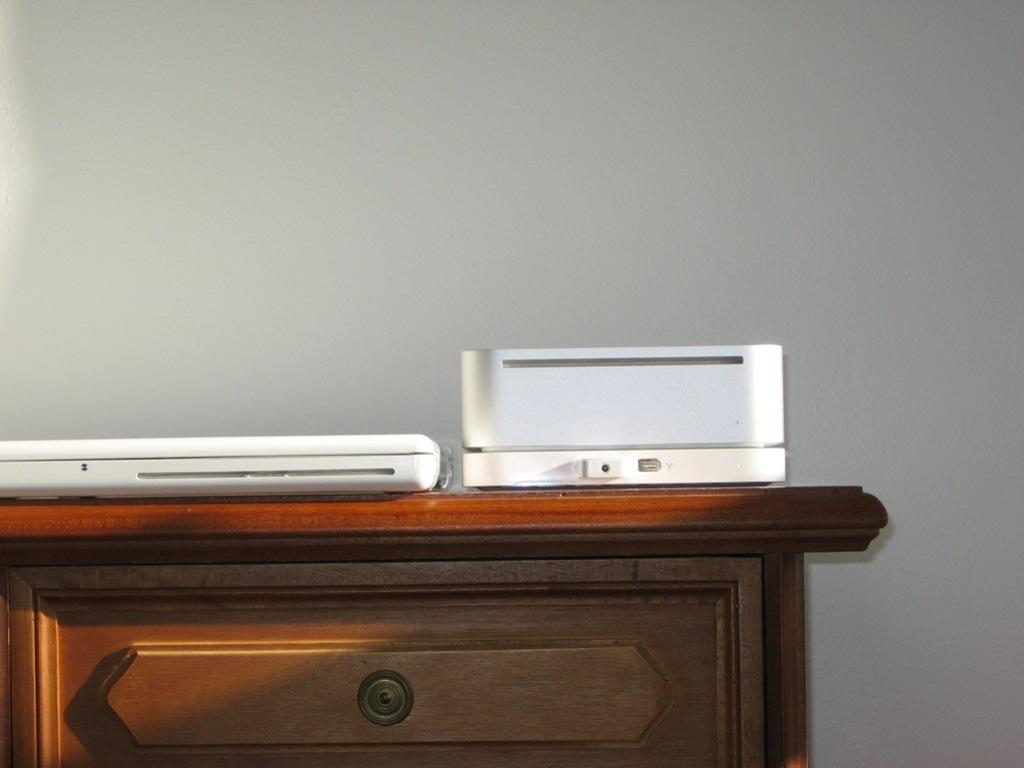cabinet_door: (52, 618, 728, 758)
handle: (360, 670, 418, 728)
